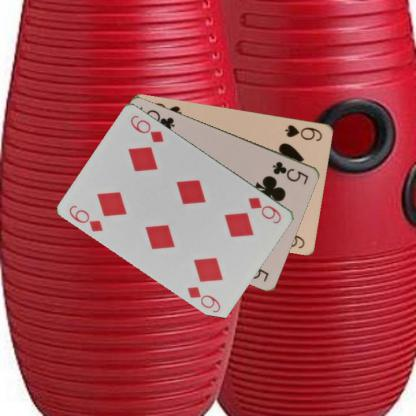5c: (270, 158, 310, 186)
6d: (66, 203, 104, 234), (246, 194, 283, 225)
6s: (282, 122, 324, 143)
